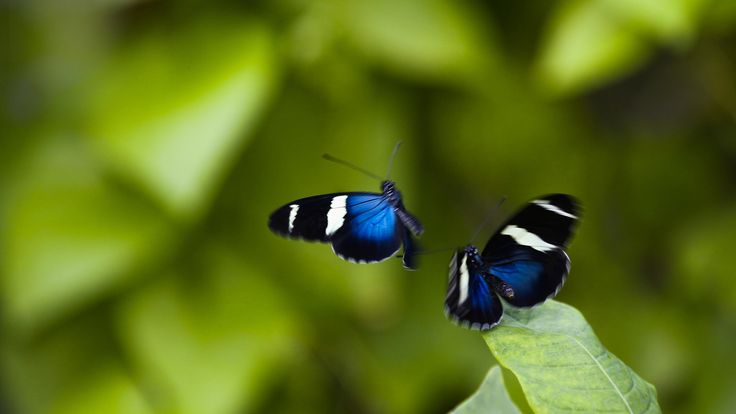Butterfly: (446, 192, 586, 331), (264, 179, 427, 276)
